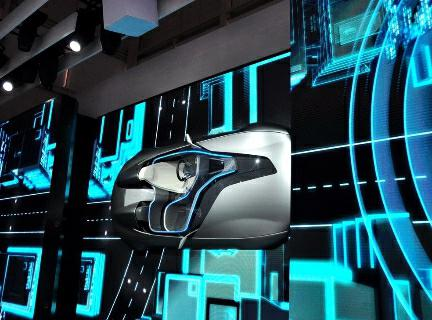宝马-ConnectedDrive: (104, 124, 297, 250)
